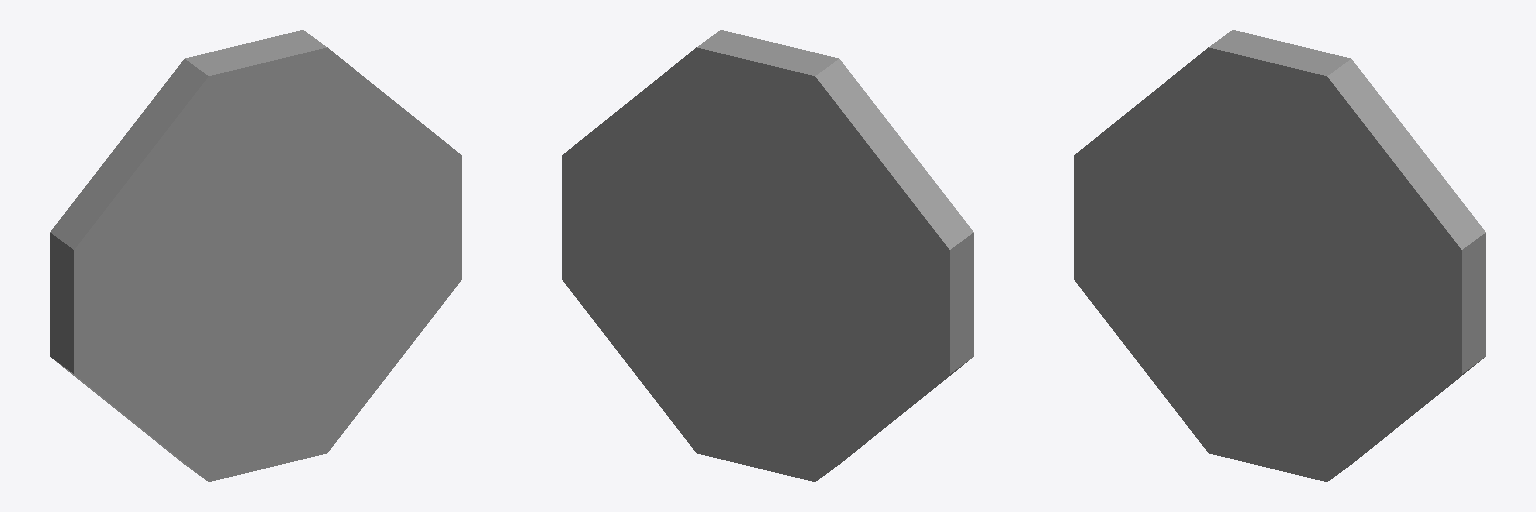
3 renders of one model, left to right at view 1: azimuth 30°, elevation 25°; view 2: azimuth 150°, elevation 25°; view 3: azimuth 330°, elevation 25°, orthographic.
Visible parts, largest first — view 1: SilverCoin; view 2: SilverCoin; view 3: SilverCoin.
Part boxes in pixels (x1,y1,x2,y2): SilverCoin: (50, 30, 461, 481); SilverCoin: (562, 30, 973, 481); SilverCoin: (1074, 30, 1485, 481).
Bounding box in the file's own units: 0.3326 × 0.3326 × 0.036.